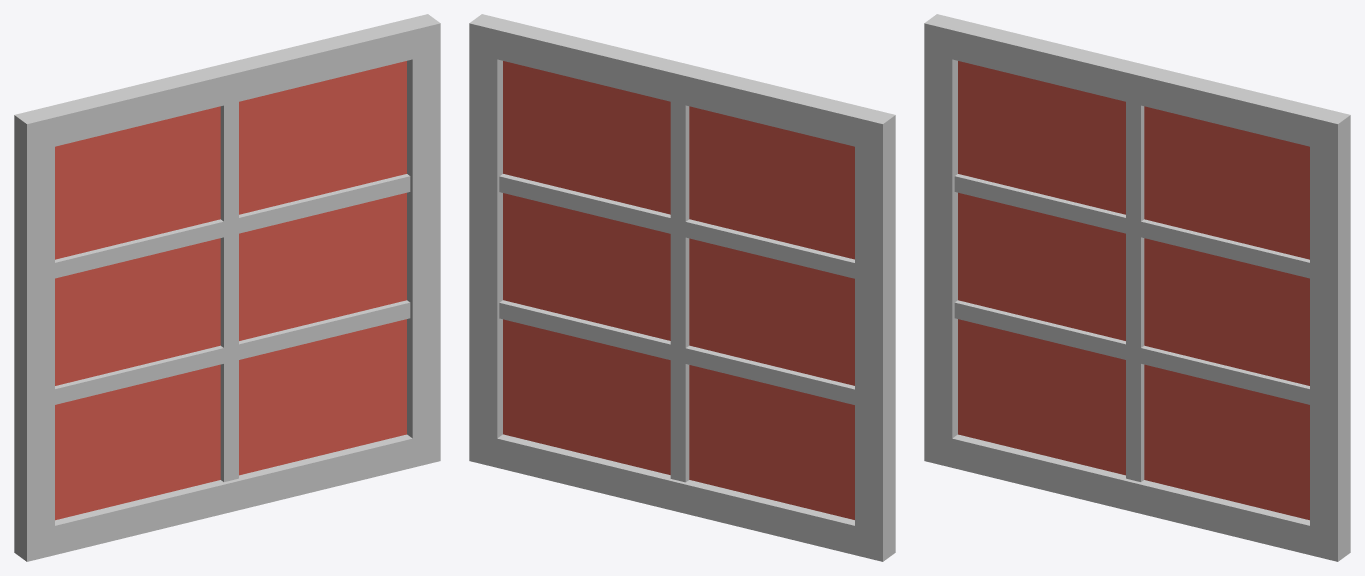
Rendered from Mesh_WindowSmall_03.fbx.
3 renders of one model, left to right at view 1: azimuth 30°, elevation 25°; view 2: azimuth 150°, elevation 25°; view 3: azimuth 330°, elevation 25°, orthographic.
Visible parts, largest first — view 1: Mesh_WindowSmall_03; view 2: Mesh_WindowSmall_03; view 3: Mesh_WindowSmall_03.
Part boxes in pixels (x1,y1,x2,y2): Mesh_WindowSmall_03: [14, 14, 440, 561]; Mesh_WindowSmall_03: [469, 14, 895, 561]; Mesh_WindowSmall_03: [924, 14, 1350, 561].
Bounding box in the file's own units: 0.8383 × 0.8476 × 0.0447.
